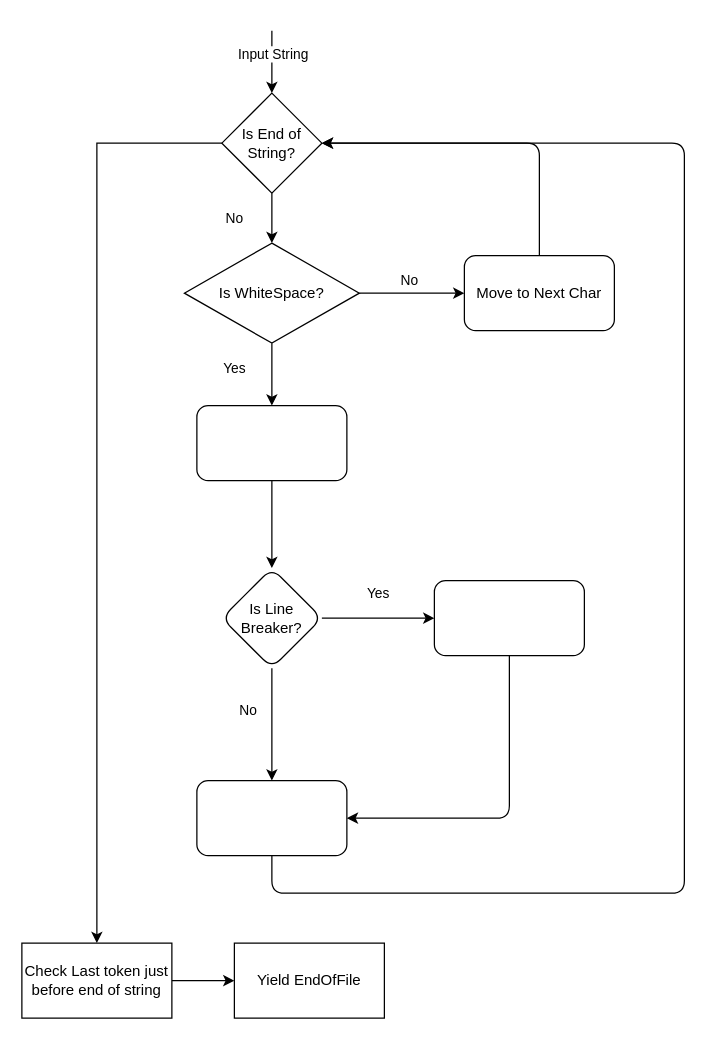
The diagram is 716 pixels wide and 1040 high, and some of its shapes have lost their labels. The shapes that lost their labels are listed below. From the top down, each one's centre as x and y in pixels, then its label:
At pixel 271 442: "Yield A Token".
At pixel 508 617: "Yield A EndOfLine".
At pixel 271 817: "Skip following white spaces, but excluding line return".
